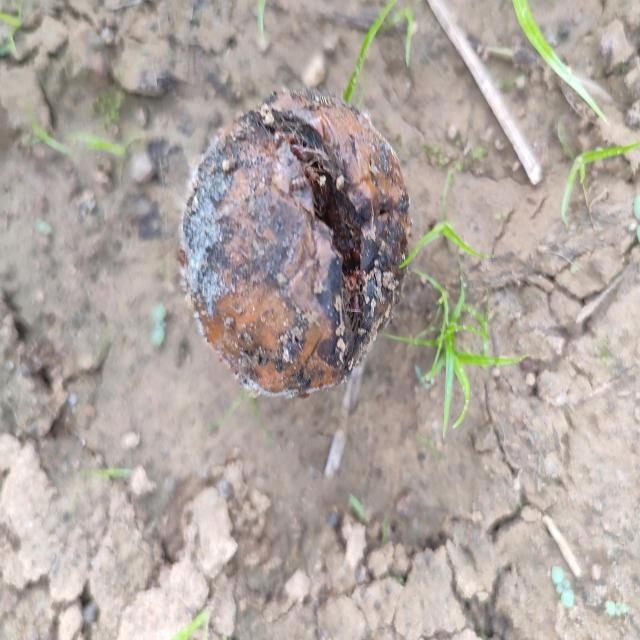damaged: (179, 89, 410, 396)
